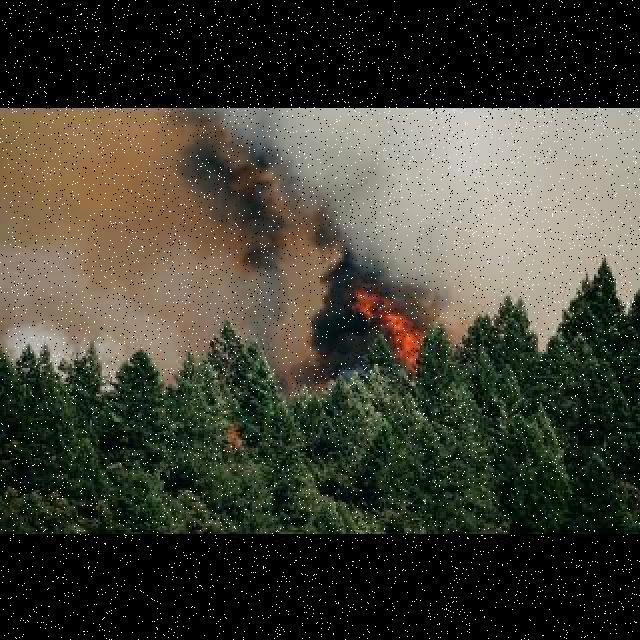fire: (356, 286, 432, 372)
smoke: (9, 110, 640, 329)
